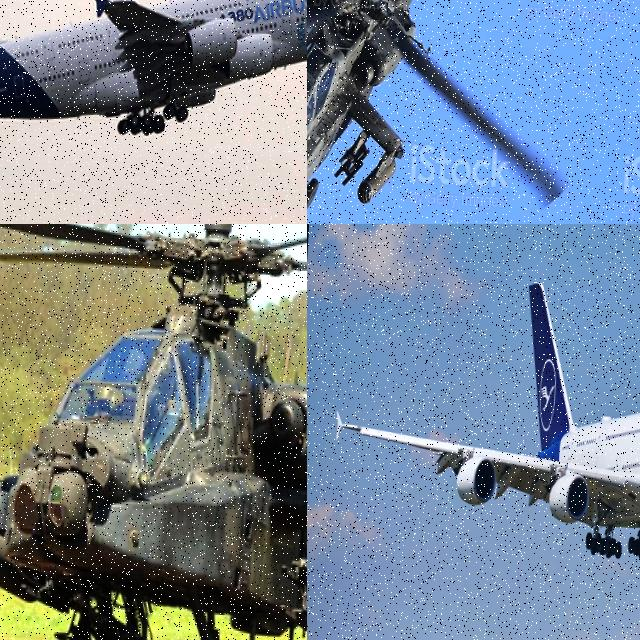A380: (326, 271, 640, 563), (0, 0, 307, 146)
Apache: (0, 224, 307, 640), (307, 0, 586, 224)
